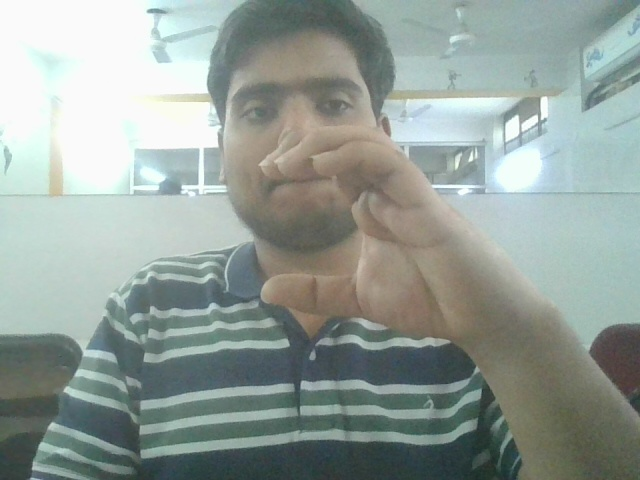No: (218, 107, 535, 340)
